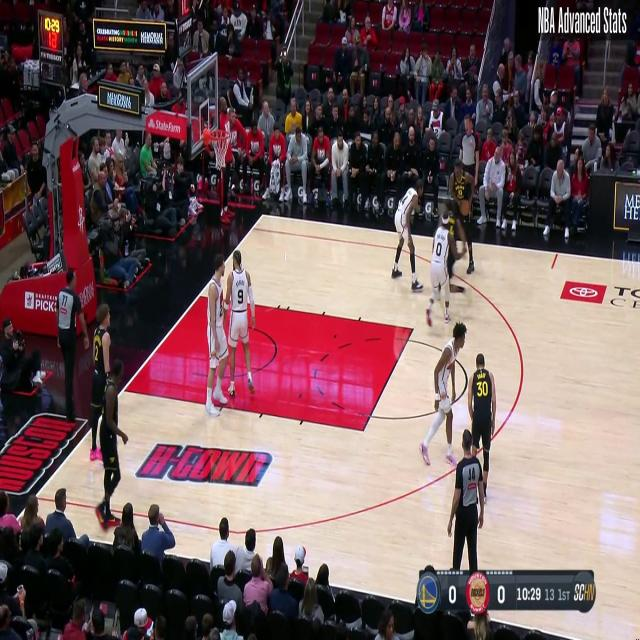ball: (459, 197, 469, 218)
judge: (447, 428, 484, 568), (55, 278, 85, 428)
player: (420, 322, 466, 459), (88, 303, 117, 477), (224, 250, 257, 402), (97, 356, 129, 503), (204, 254, 230, 419), (468, 352, 496, 498), (394, 181, 426, 297), (448, 160, 476, 281), (428, 207, 453, 329)
